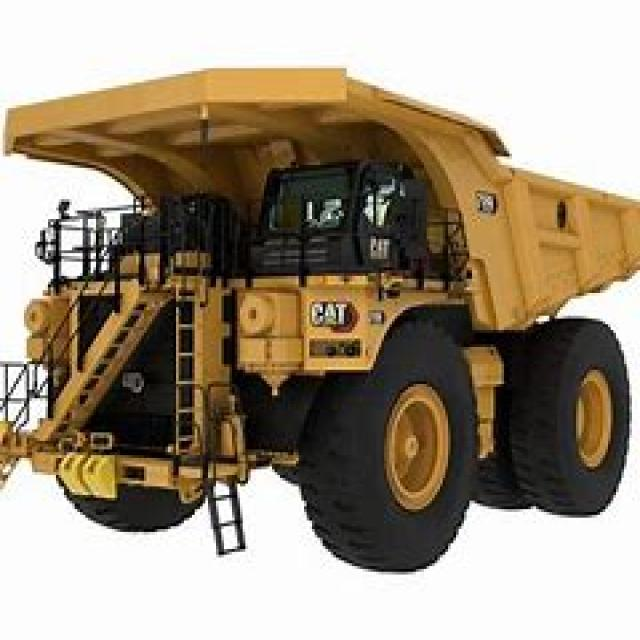dump_truck: (0, 68, 629, 571)
